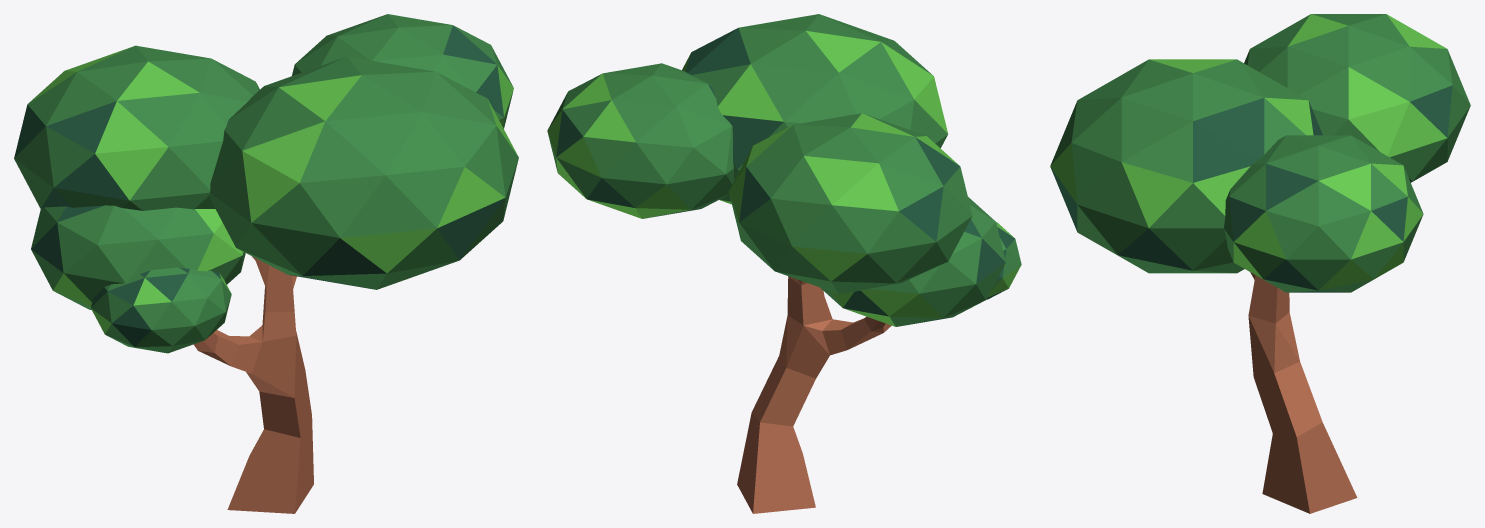
Rendered from Tree_04.fbx.
3 renders of one model, left to right at view 1: azimuth 30°, elevation 25°; view 2: azimuth 150°, elevation 25°; view 3: azimuth 270°, elevation 25°, orthographic. The views are drawn at different scales.
Visible parts, largest first — view 1: Tree_04; view 2: Tree_04; view 3: Tree_04.
Boxes of the visible parts, x1,y1,x2,y2 form: Tree_04: (14, 14, 518, 513); Tree_04: (547, 14, 1021, 513); Tree_04: (1050, 14, 1470, 513).
Size of the model in its own units: 478 by 458 by 398.
